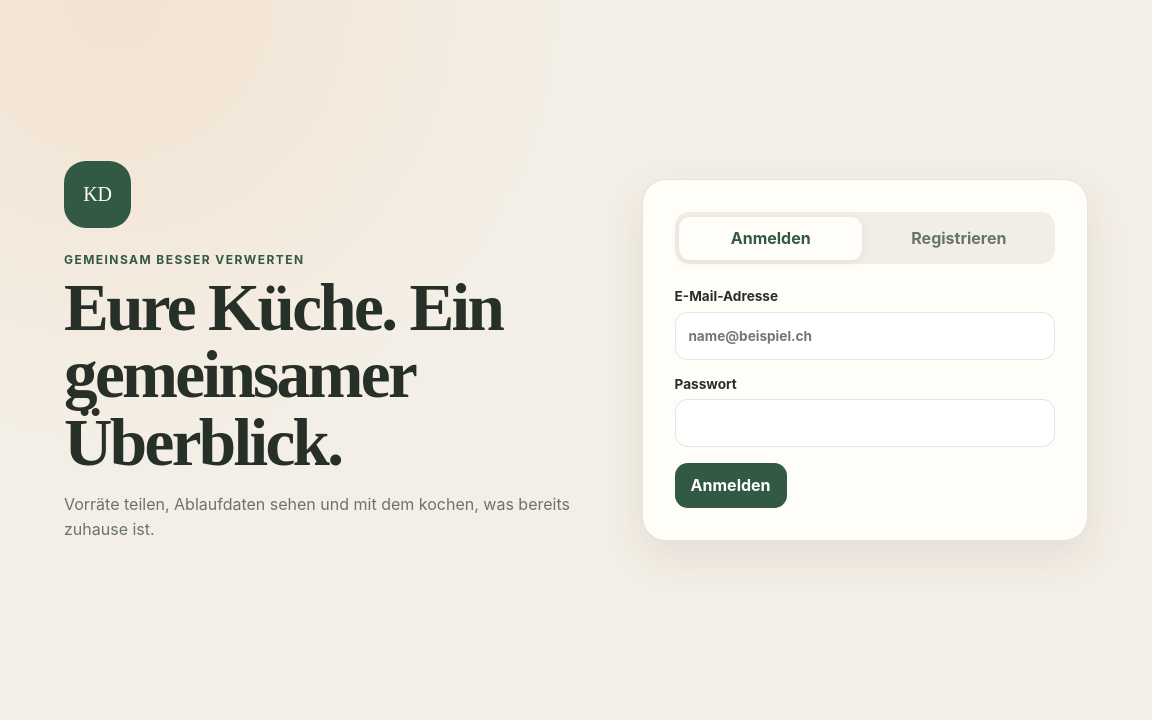
it: Anmeldung › zeigt nach Registrierung die E-Mail-Bestätigung
Click the tab "Registrieren" at (959,238), box top-left (868, 217), bottom-right (1050, 260)
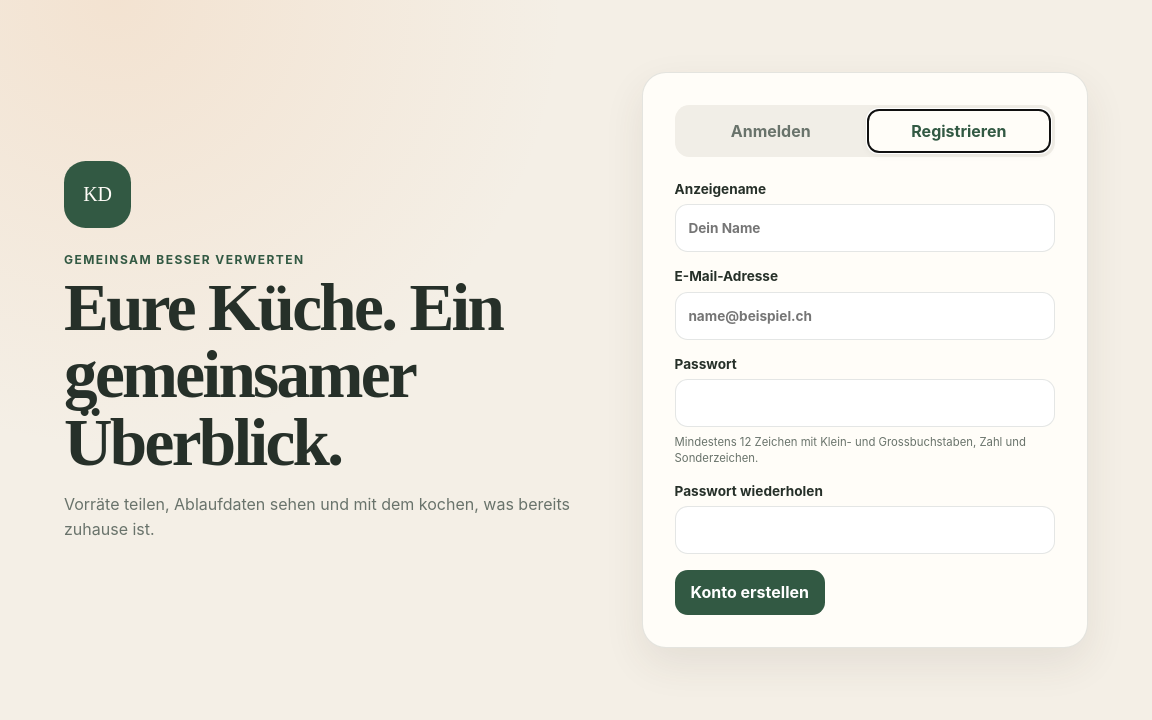
Type "Anna" into the field labelled "Anzeigename" at (865,228), box top-left (675, 204), bottom-right (1055, 252)
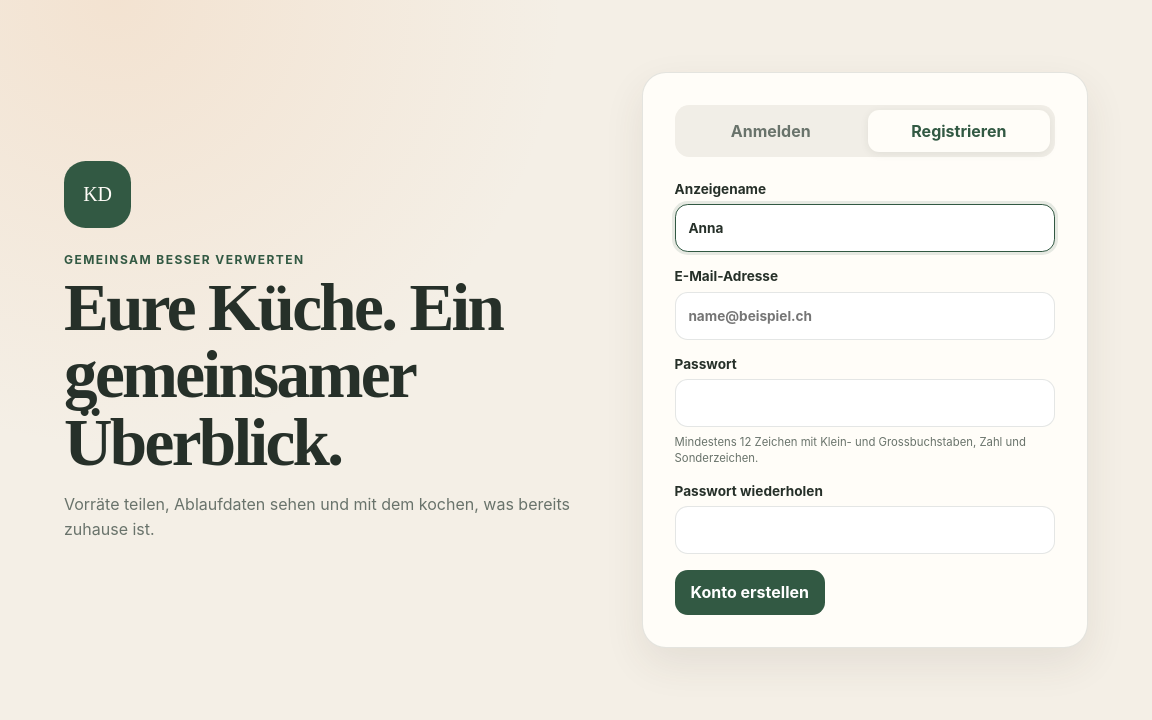
Type "anna@example.com" into the field labelled "E-Mail-Adresse" at (865,316), box top-left (675, 292), bottom-right (1055, 340)
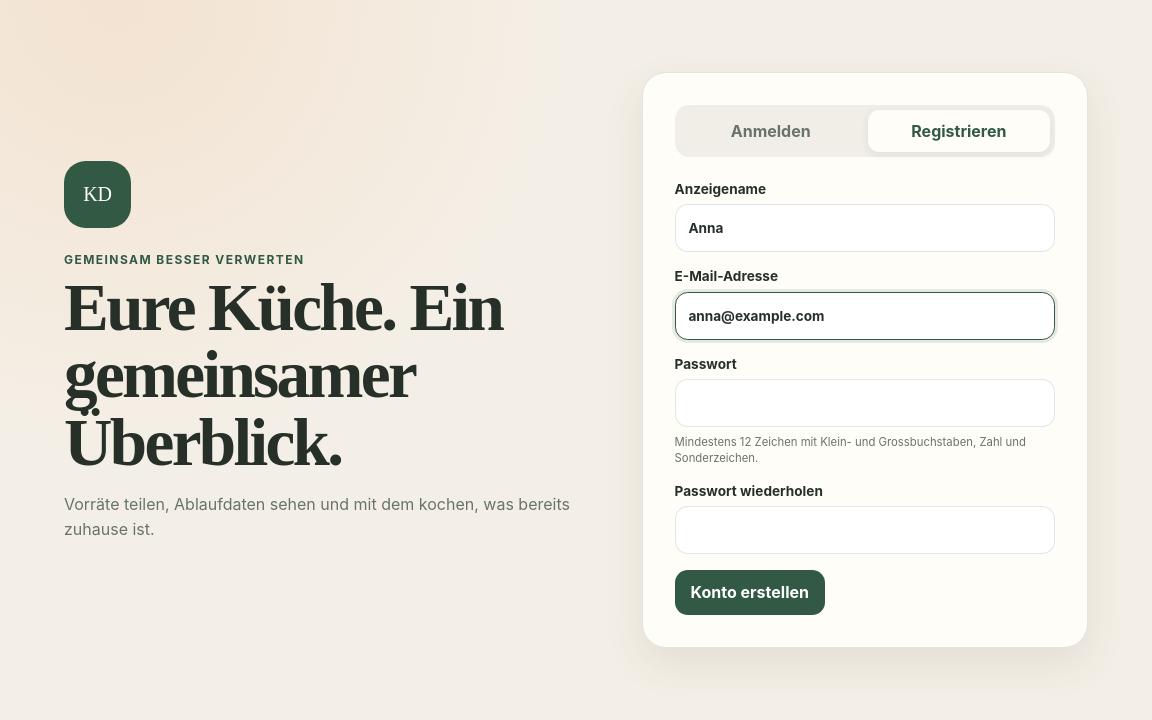
Type "SehrSicher12!" into the password field labelled "Passwort" at (865,403), box top-left (675, 379), bottom-right (1055, 427)
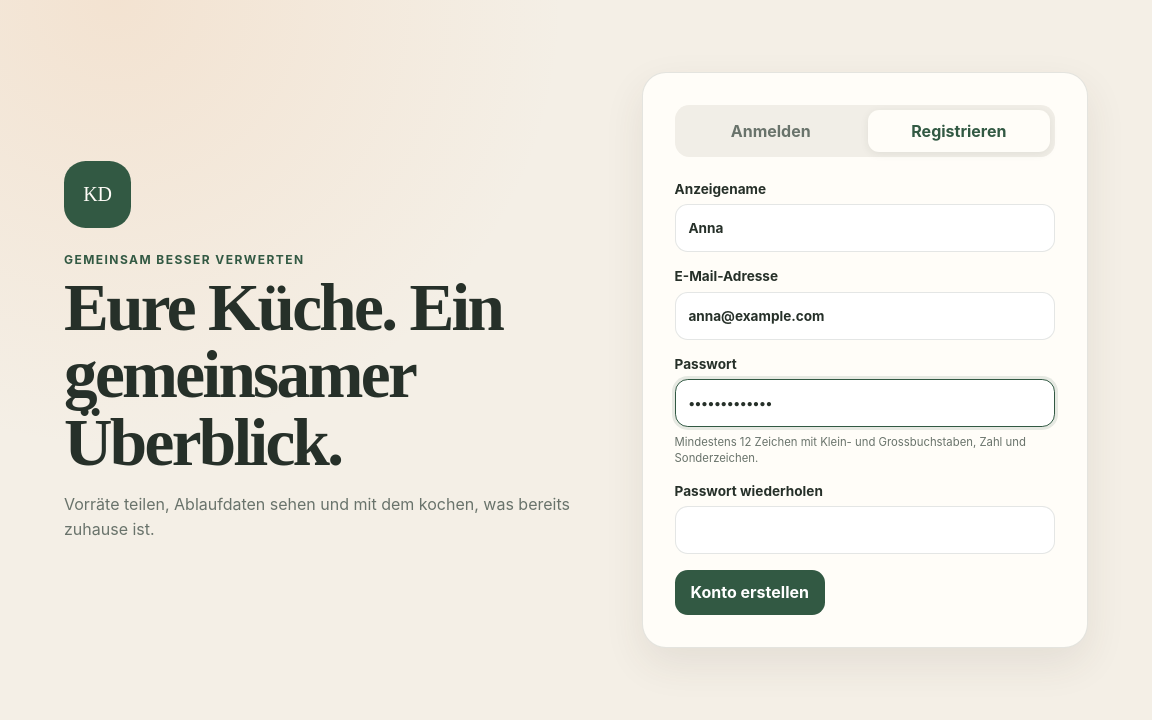
Type "SehrSicher12!" into the password field labelled "Passwort wiederholen" at (865,530), box top-left (675, 506), bottom-right (1055, 554)
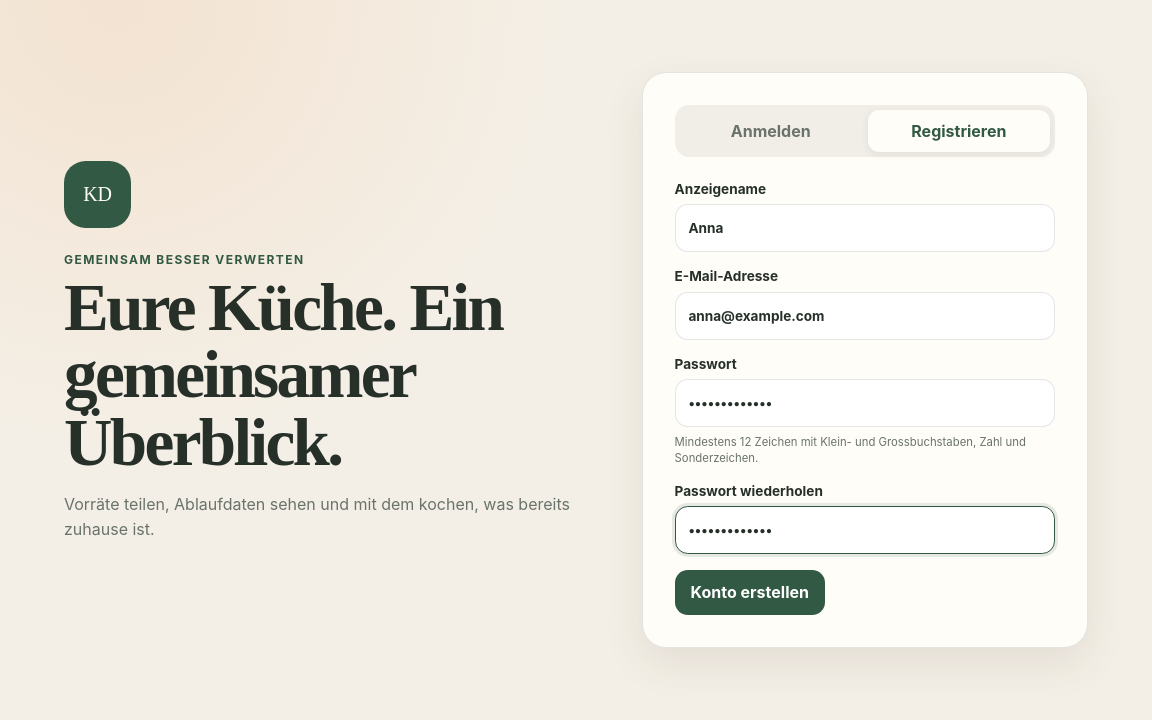
Click the button "Konto erstellen" at (750,592), box top-left (675, 570), bottom-right (825, 615)
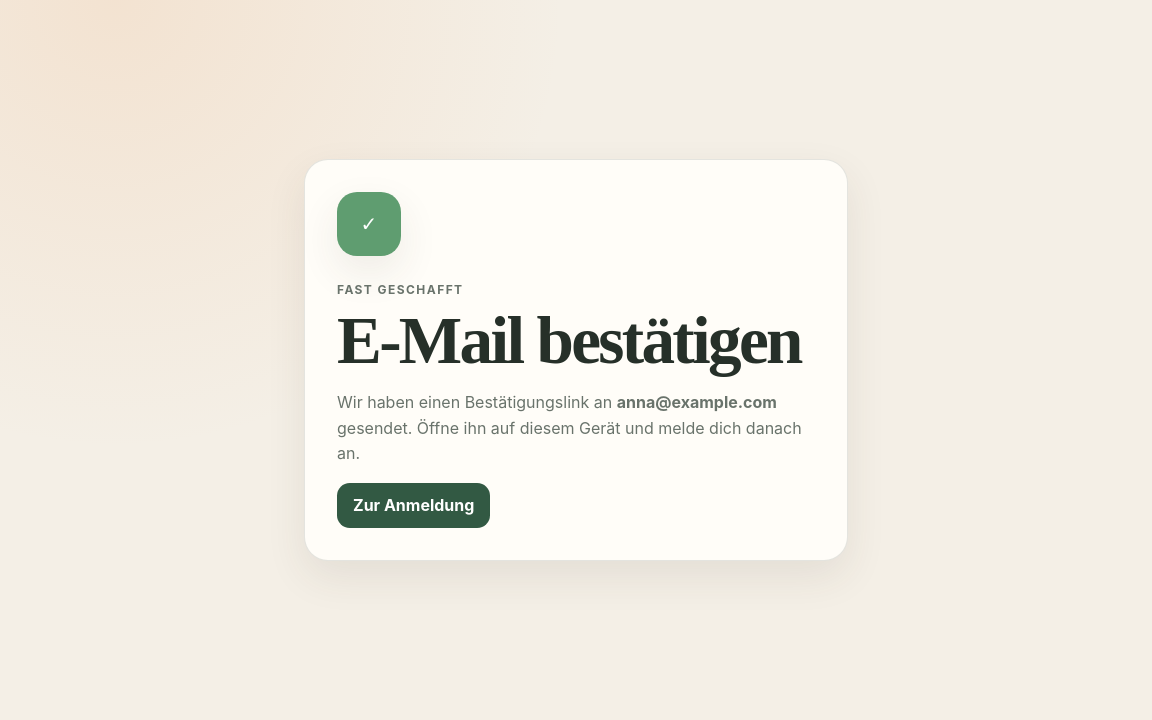
expect the heading "E-Mail bestätigen" is shown: met, box top-left (337, 307), bottom-right (815, 374)
expect the text "anna@example.com" is shown: met, box top-left (617, 392), bottom-right (777, 412)
